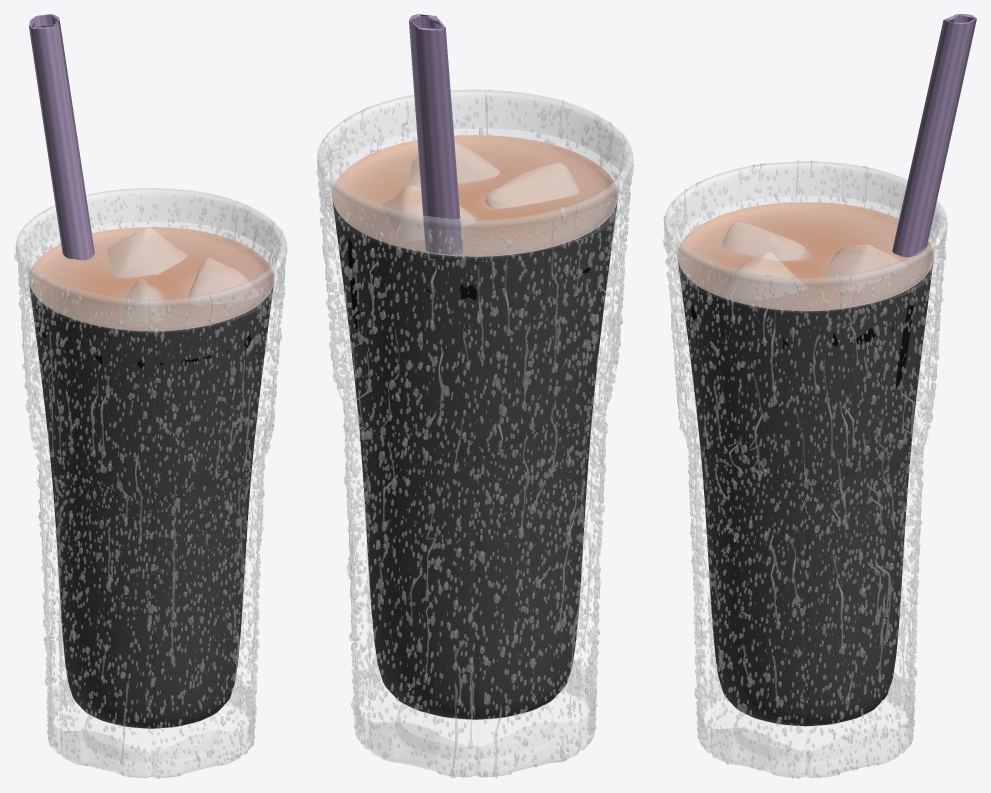
The model's file is iced-coffee.glb.
3 renders of one model, left to right at view 1: azimuth 30°, elevation 25°; view 2: azimuth 150°, elevation 25°; view 3: azimuth 270°, elevation 25°, orthographic. The views are drawn at different scales.
Visible parts, largest first — view 1: glass, coffee, straw, ice; view 2: glass, coffee, straw, ice; view 3: glass, coffee, straw, ice.
Boxes of the visible parts, x1,y1,x2,y2 form: glass: [14, 188, 287, 778]; coffee: [29, 227, 274, 728]; straw: [29, 14, 94, 260]; ice: [107, 226, 259, 357]; glass: [316, 89, 634, 778]; coffee: [332, 135, 617, 719]; straw: [409, 14, 462, 254]; ice: [382, 142, 578, 240]; glass: [663, 160, 947, 778]; coffee: [677, 202, 933, 726]; straw: [892, 14, 976, 257]; ice: [693, 222, 906, 330].
Size of the model in its own units: 0.072 by 0.194 by 0.0788.
Materials: 5 (1 with a texture image).
